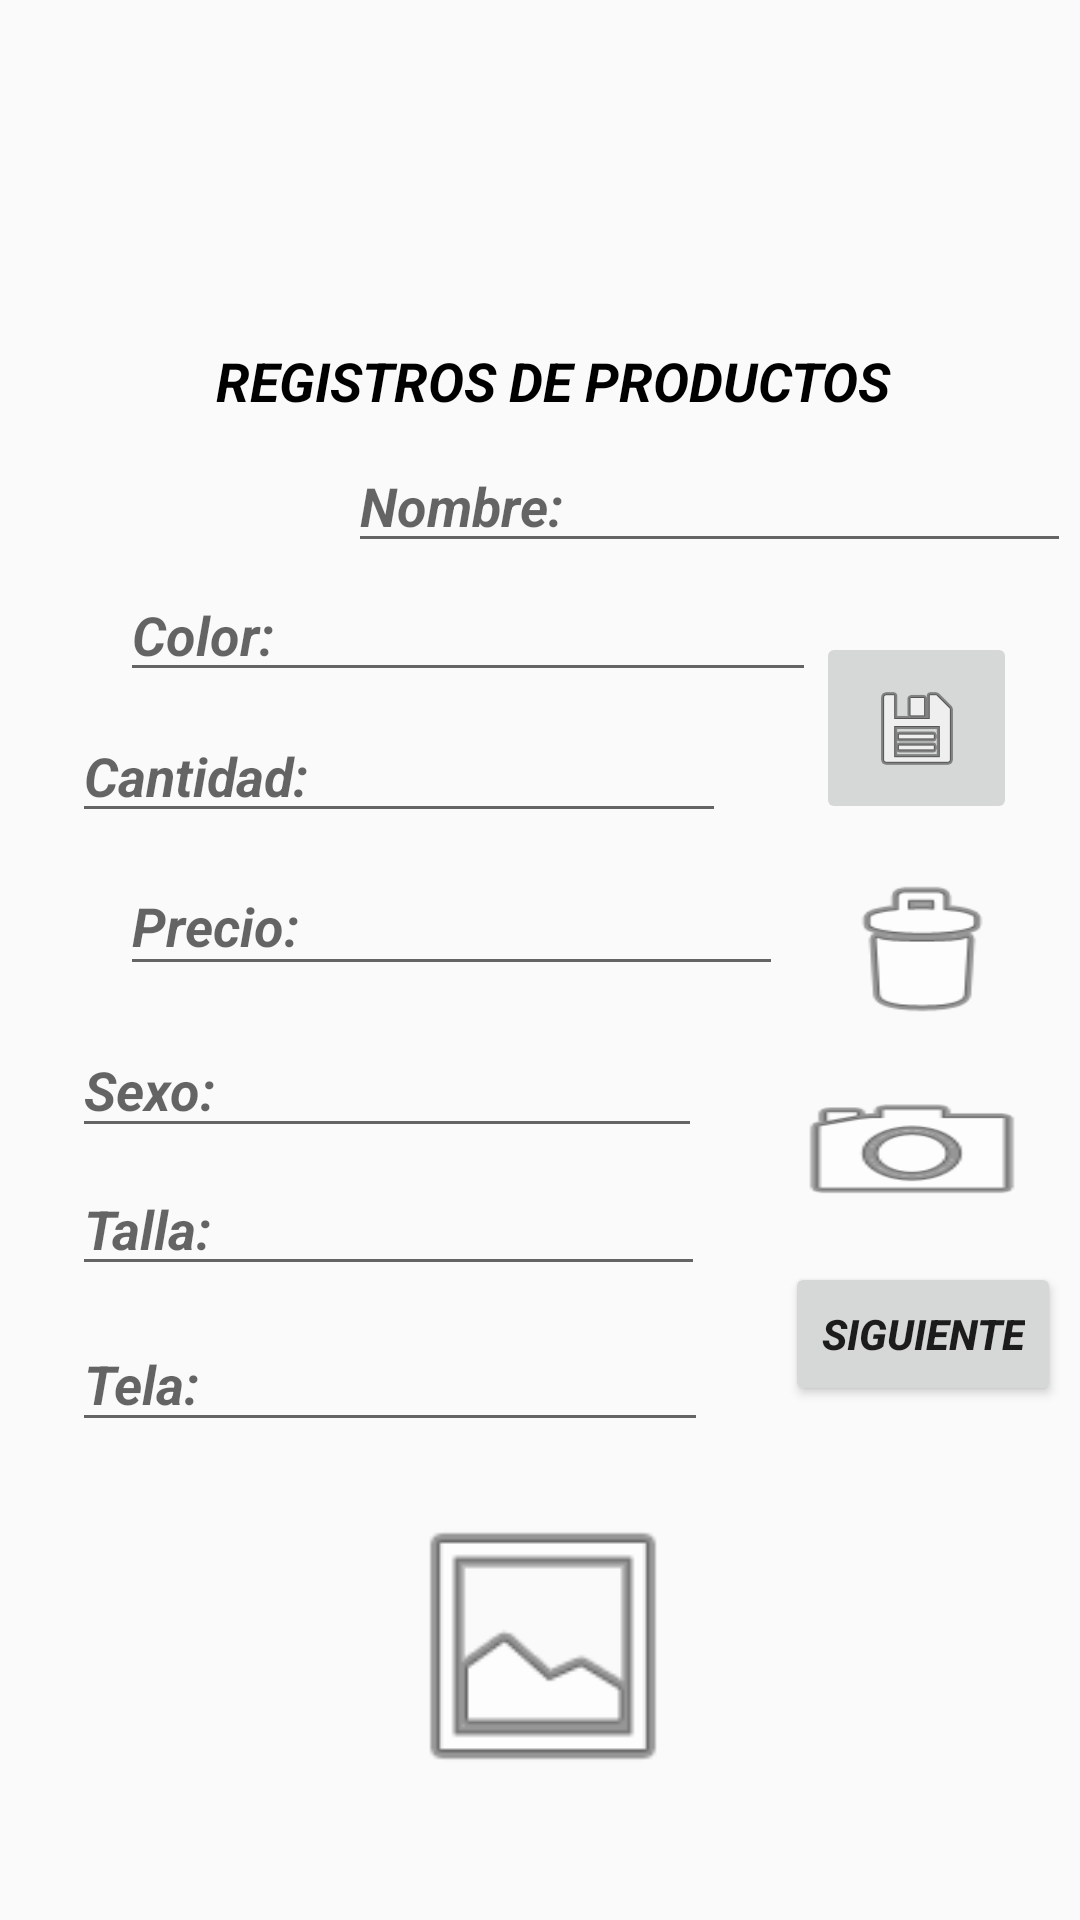

Where icons sit on this 1080 x 1920 app screen, as bbox(x1, y1, x2, y2):
camera: bbox(810, 1104, 1014, 1193)
delete: bbox(862, 887, 982, 1011)
gallery: bbox(430, 1533, 656, 1759)
save: bbox(828, 650, 1005, 806)
